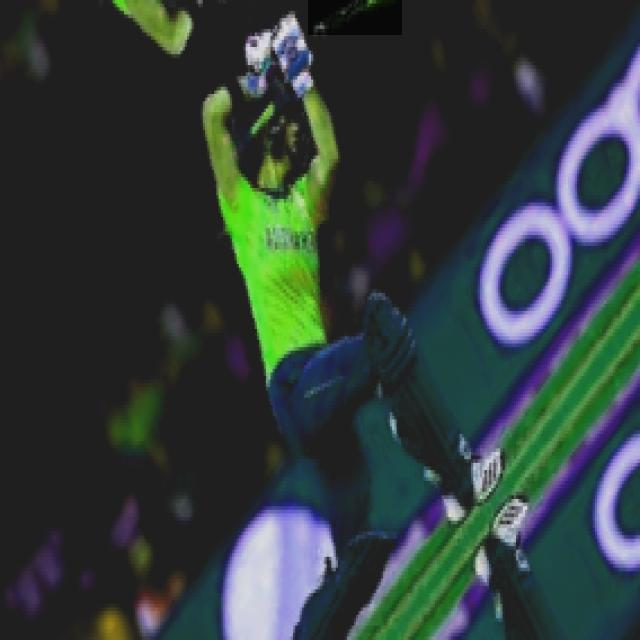bat: (301, 0, 419, 38)
